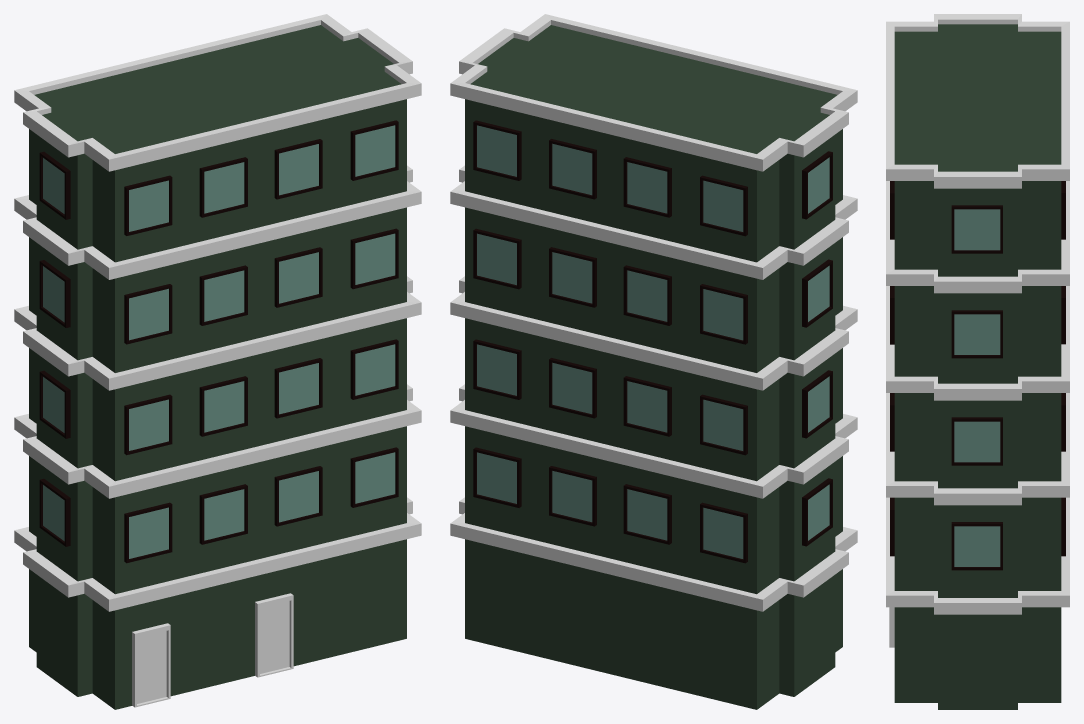
The picture shows the model from 3 angles, left to right: view 1: azimuth 30°, elevation 25°; view 2: azimuth 150°, elevation 25°; view 3: azimuth 270°, elevation 25°; orthographic projection. The views are drawn at different scales.
Parts seen in each view (by area): view 1: Plane.002; view 2: Plane.002; view 3: Plane.002.
Part boxes in pixels (x1,y1,x2,y2): Plane.002: [14, 14, 421, 709]; Plane.002: [450, 14, 857, 709]; Plane.002: [886, 14, 1069, 709].
Bounding box in the file's own units: 693 × 1069 × 330.
